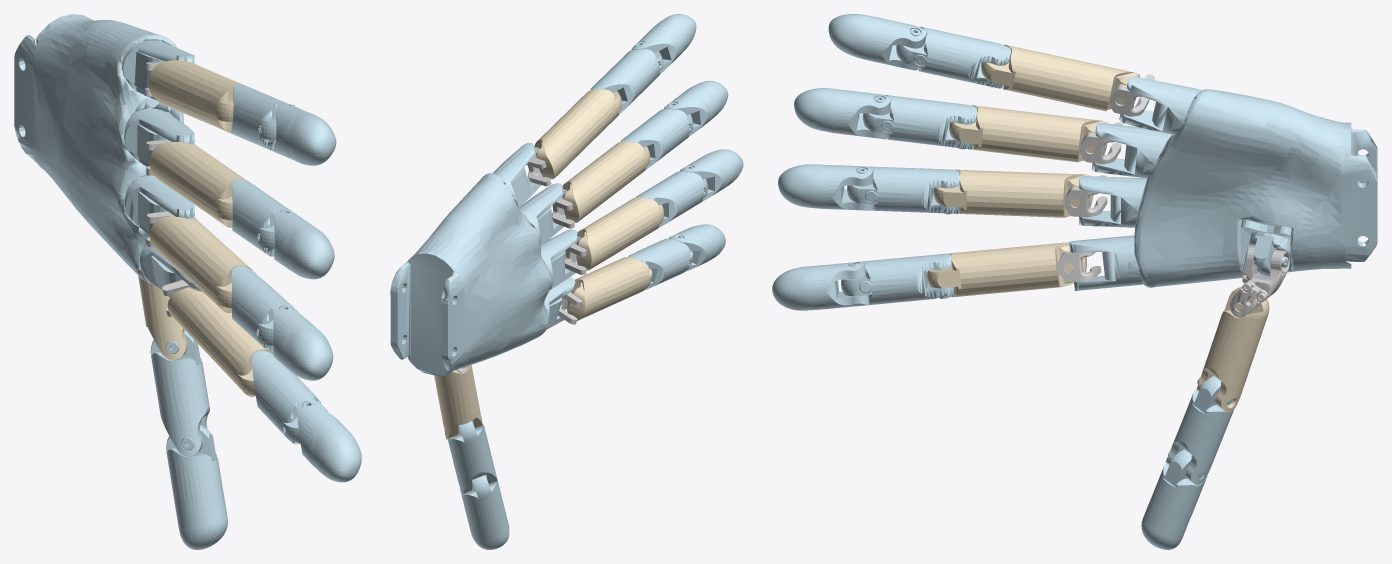
Rendered from wuji-left-web.glb.
The picture shows the model from 3 angles, left to right: view 1: azimuth 30°, elevation 25°; view 2: azimuth 150°, elevation 25°; view 3: azimuth 270°, elevation 25°; orthographic projection. The views are drawn at different scales.
Visible parts, largest first — view 1: left_palm_link_visual, left_finger1_link3_visual, left_finger3_link2_visual, left_finger2_link2_visual, left_finger4_link2_visual, left_finger5_link2_visual, left_finger2_link3_visual, left_finger1_link4_visual, left_finger3_link3_visual, left_finger2_tip_link_visual, left_finger4_link3_visual, left_finger3_tip_link_visual (+9 smaller); view 2: left_palm_link_visual, left_finger5_link2_visual, left_finger4_link2_visual, left_finger3_link2_visual, left_finger2_link2_visual, left_finger1_link2_visual, left_finger5_link3_visual, left_finger1_link3_visual, left_finger4_link3_visual, left_finger3_link3_visual, left_finger2_link3_visual, left_finger1_link4_visual (+12 smaller); view 3: left_palm_link_visual, left_finger4_link2_visual, left_finger5_link2_visual, left_finger2_link2_visual, left_finger3_link2_visual, left_finger1_link2_visual, left_finger4_link3_visual, left_finger5_link3_visual, left_finger3_link3_visual, left_finger2_link3_visual, left_finger1_link3_visual, left_finger1_link4_visual (+14 smaller).
Boxes of the visible parts, x1=… form: left_palm_link_visual: x1=14, y1=14, x2=198, y2=296; left_finger1_link3_visual: x1=150, y1=330, x2=209, y2=456; left_finger3_link2_visual: x1=150, y1=215, x2=252, y2=313; left_finger2_link2_visual: x1=167, y1=287, x2=273, y2=396; left_finger4_link2_visual: x1=149, y1=142, x2=250, y2=227; left_finger5_link2_visual: x1=148, y1=60, x2=243, y2=132; left_finger2_link3_visual: x1=251, y1=350, x2=327, y2=444; left_finger1_link4_visual: x1=166, y1=425, x2=223, y2=501; left_finger3_link3_visual: x1=232, y1=265, x2=293, y2=350; left_finger2_tip_link_visual: x1=303, y1=420, x2=361, y2=482; left_finger4_link3_visual: x1=232, y1=179, x2=291, y2=256; left_finger3_tip_link_visual: x1=275, y1=321, x2=333, y2=380; left_palm_link_visual: x1=390, y1=142, x2=577, y2=376; left_finger5_link2_visual: x1=534, y1=89, x2=621, y2=179; left_finger4_link2_visual: x1=562, y1=141, x2=650, y2=222; left_finger3_link2_visual: x1=576, y1=197, x2=664, y2=270; left_finger2_link2_visual: x1=566, y1=257, x2=652, y2=320; left_finger1_link2_visual: x1=434, y1=365, x2=482, y2=439; left_finger5_link3_visual: x1=590, y1=49, x2=663, y2=114; left_finger1_link3_visual: x1=447, y1=417, x2=497, y2=494; left_finger4_link3_visual: x1=621, y1=108, x2=693, y2=169; left_finger3_link3_visual: x1=636, y1=171, x2=707, y2=227; left_finger2_link3_visual: x1=628, y1=238, x2=692, y2=289; left_finger1_link4_visual: x1=461, y1=475, x2=504, y2=525; left_palm_link_visual: x1=1069, y1=76, x2=1377, y2=290; left_finger4_link2_visual: x1=949, y1=105, x2=1107, y2=162; left_finger5_link2_visual: x1=981, y1=44, x2=1139, y2=111; left_finger2_link2_visual: x1=927, y1=242, x2=1086, y2=296; left_finger3_link2_visual: x1=933, y1=169, x2=1093, y2=217; left_finger1_link2_visual: x1=1196, y1=286, x2=1269, y2=412; left_finger4_link3_visual: x1=863, y1=95, x2=977, y2=149; left_finger5_link3_visual: x1=896, y1=26, x2=1011, y2=88; left_finger3_link3_visual: x1=847, y1=166, x2=959, y2=214; left_finger2_link3_visual: x1=841, y1=253, x2=955, y2=304; left_finger1_link3_visual: x1=1165, y1=375, x2=1233, y2=484; left_finger1_link4_visual: x1=1150, y1=449, x2=1207, y2=518.
Bounding box in the file's own units: 0.0498 × 0.1895 × 0.2057.
